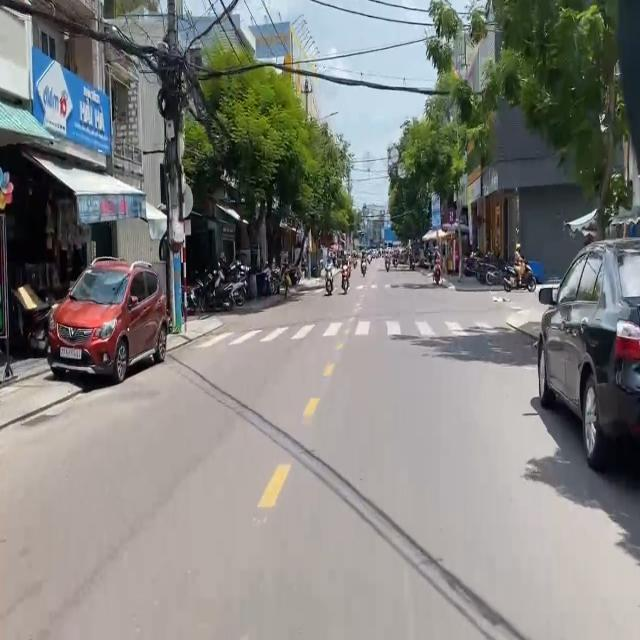walk-crossing: (197, 317, 525, 347)
